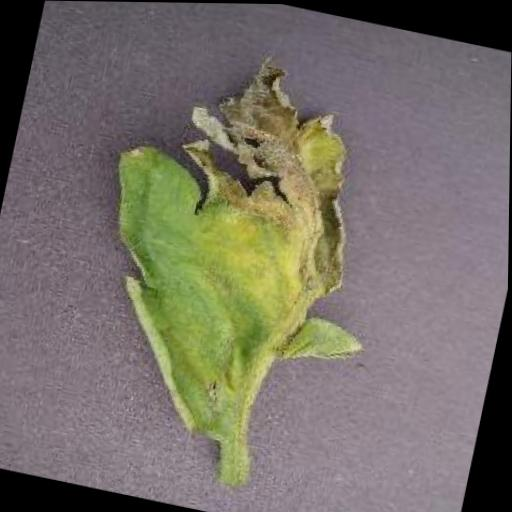Late Blight: (64, 28, 421, 473)
